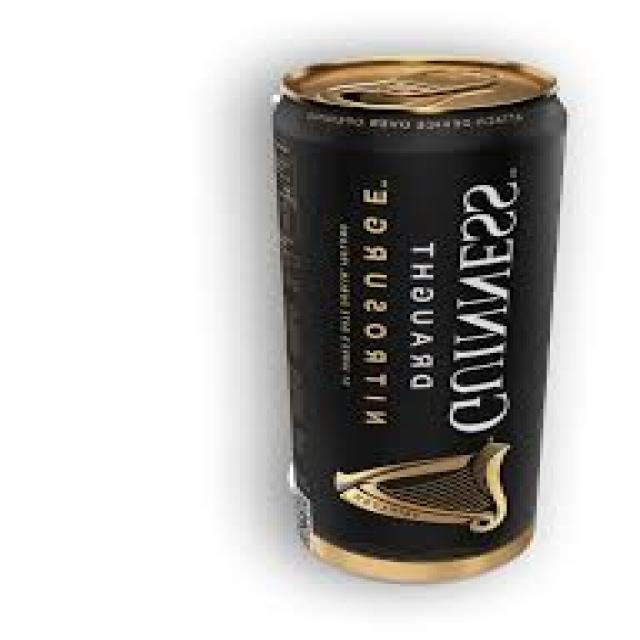metal: (269, 54, 569, 585)
